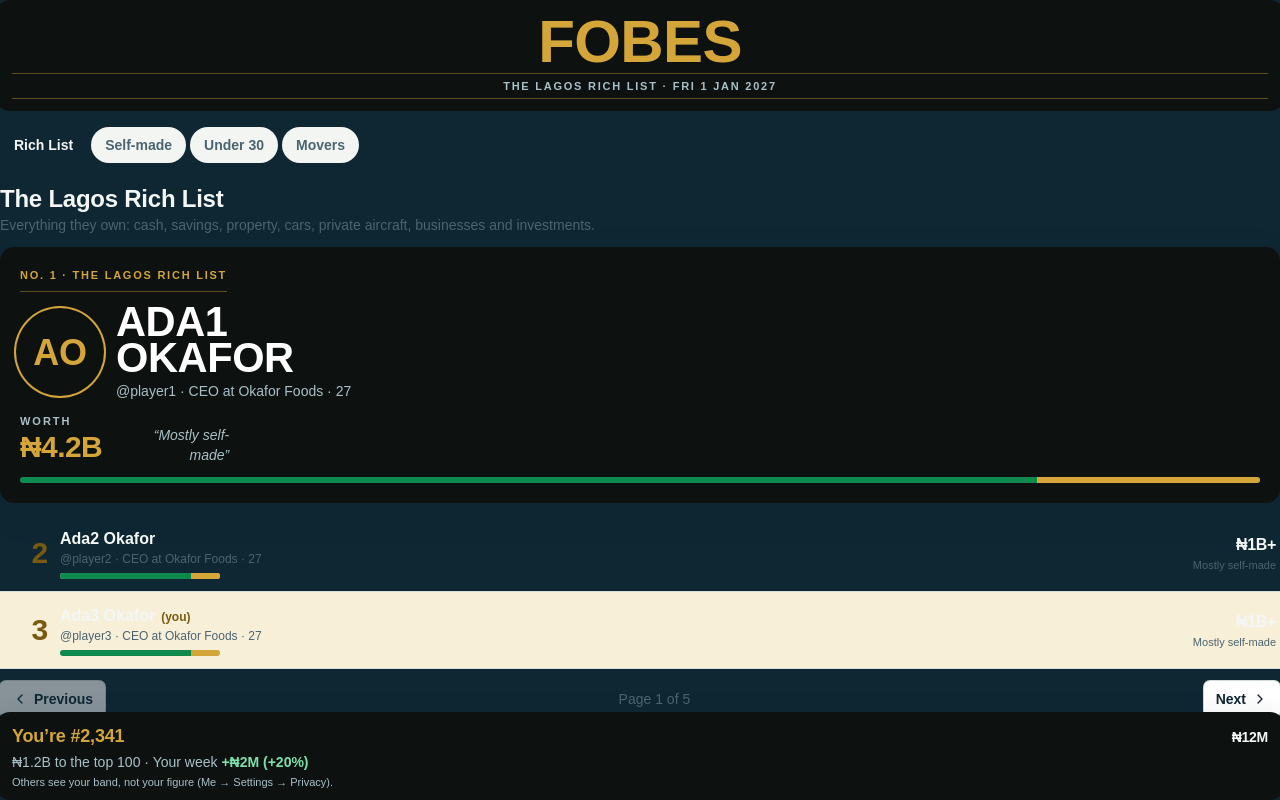
FobesApp › pages through the top 100 and starts again on a new tab
Click the button "Next".
click(1242, 699)  # box [1204,681,1279,717]
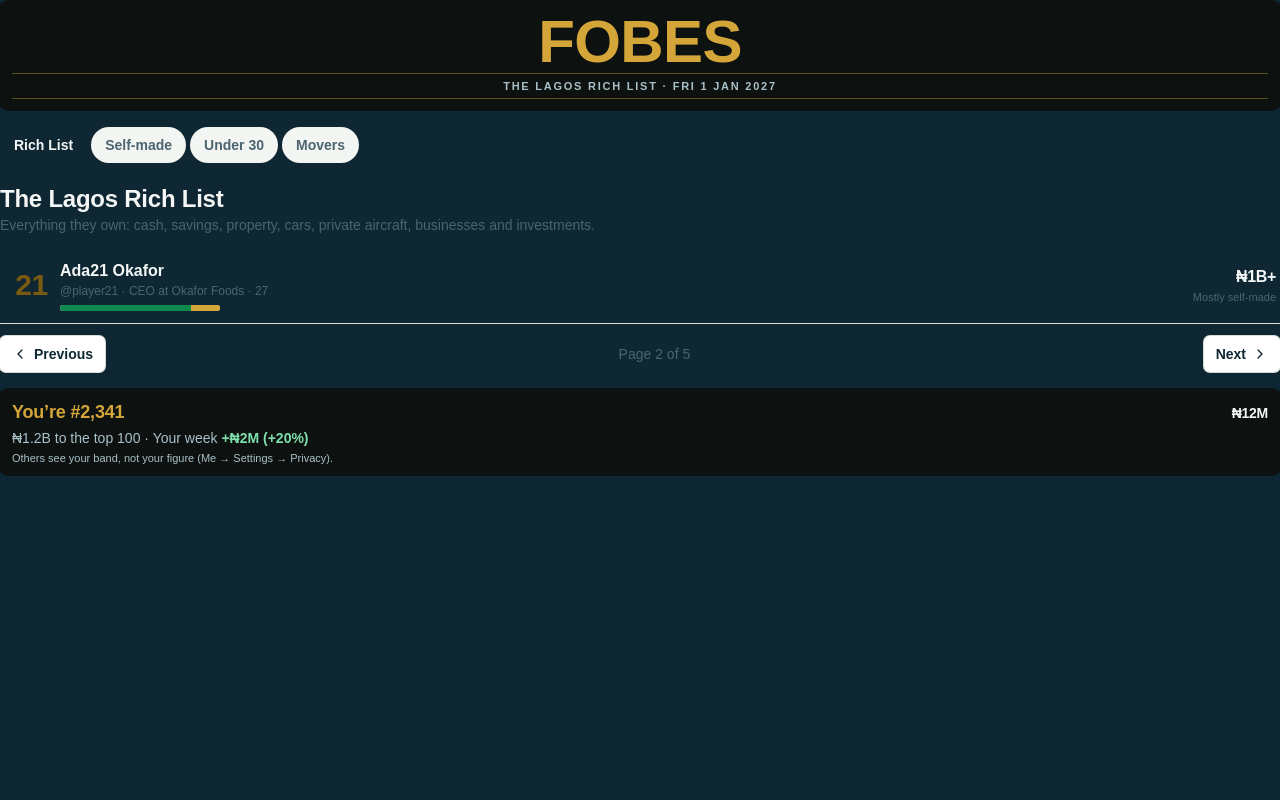
Expected: the text "Page 2 of 5" is shown, [619,344,690,364]
Click the tab "Movers".
click(320, 145)  # box [282,127,359,163]
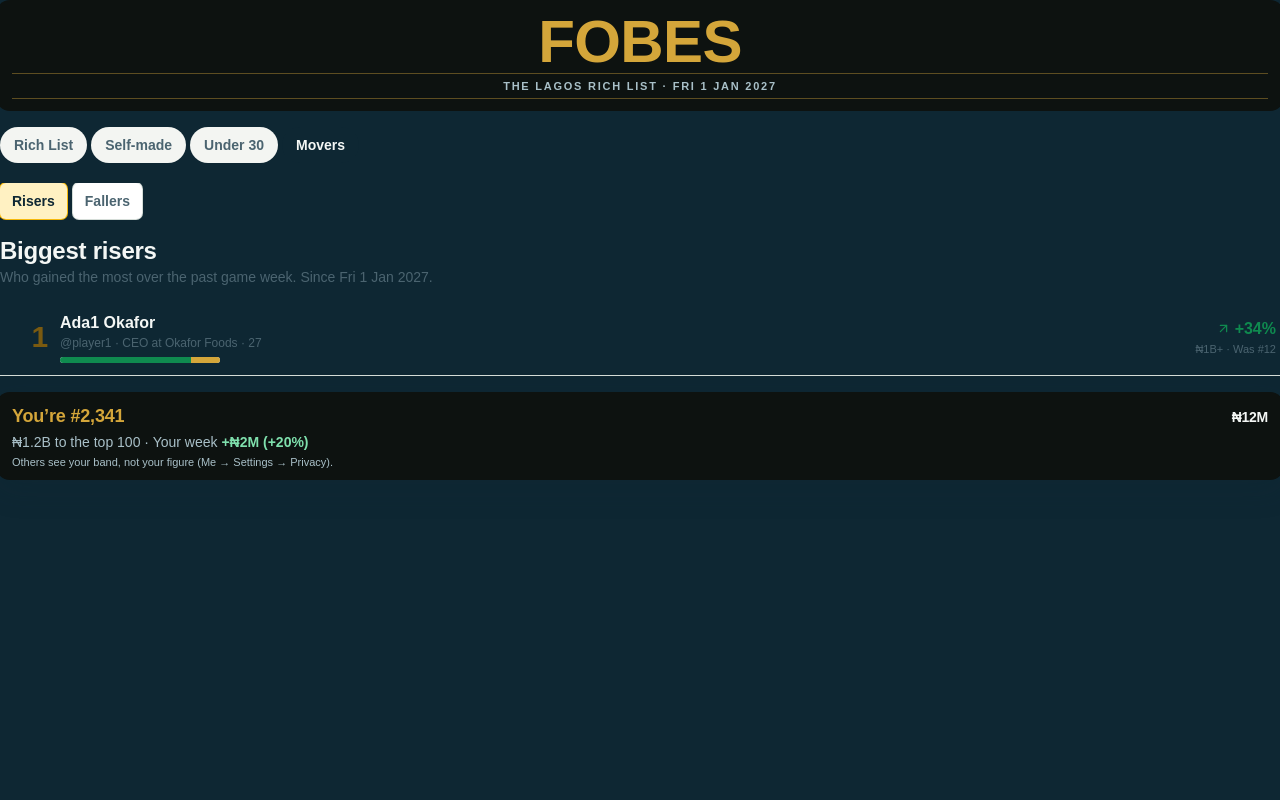
Expected: the text "₦1B+ · Was #12" is shown, [1195,341,1276,357]
